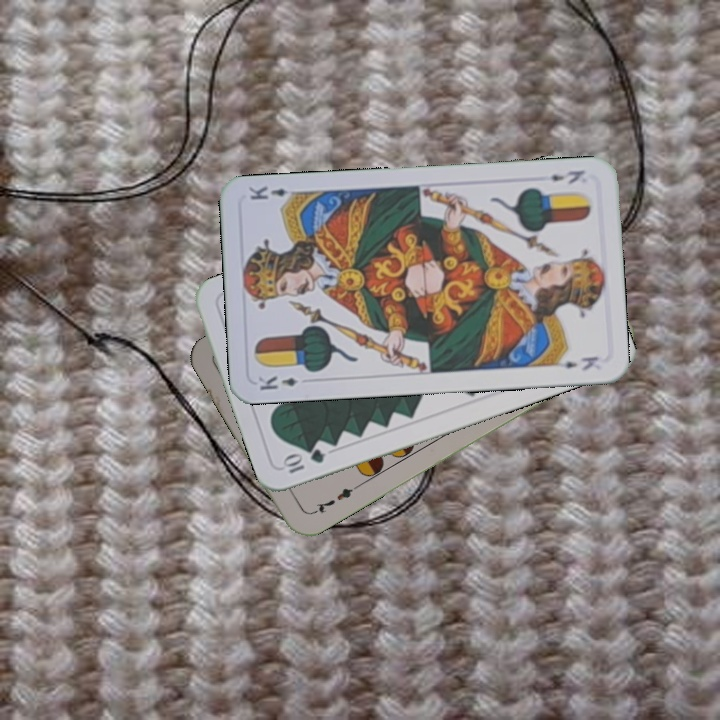E7: (307, 481, 360, 517)
EK: (254, 372, 300, 393), (546, 166, 587, 187)
G10: (278, 445, 328, 476)
